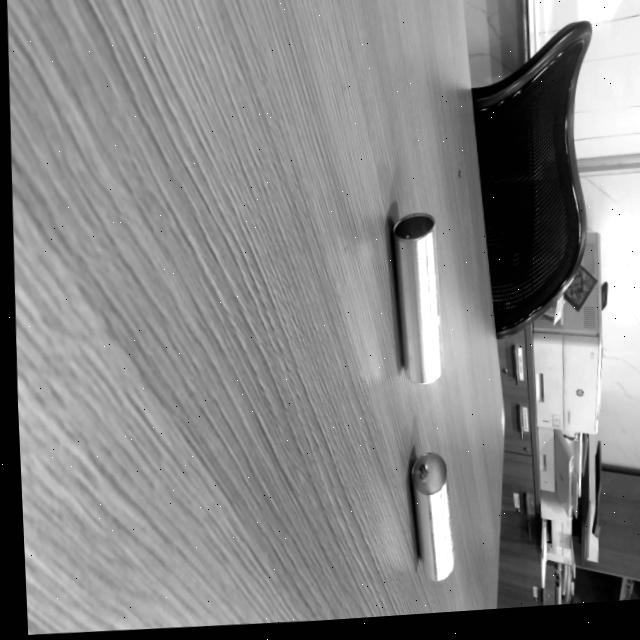Co_Lon: (389, 212, 443, 385)
Co_Nho: (407, 451, 455, 582)
